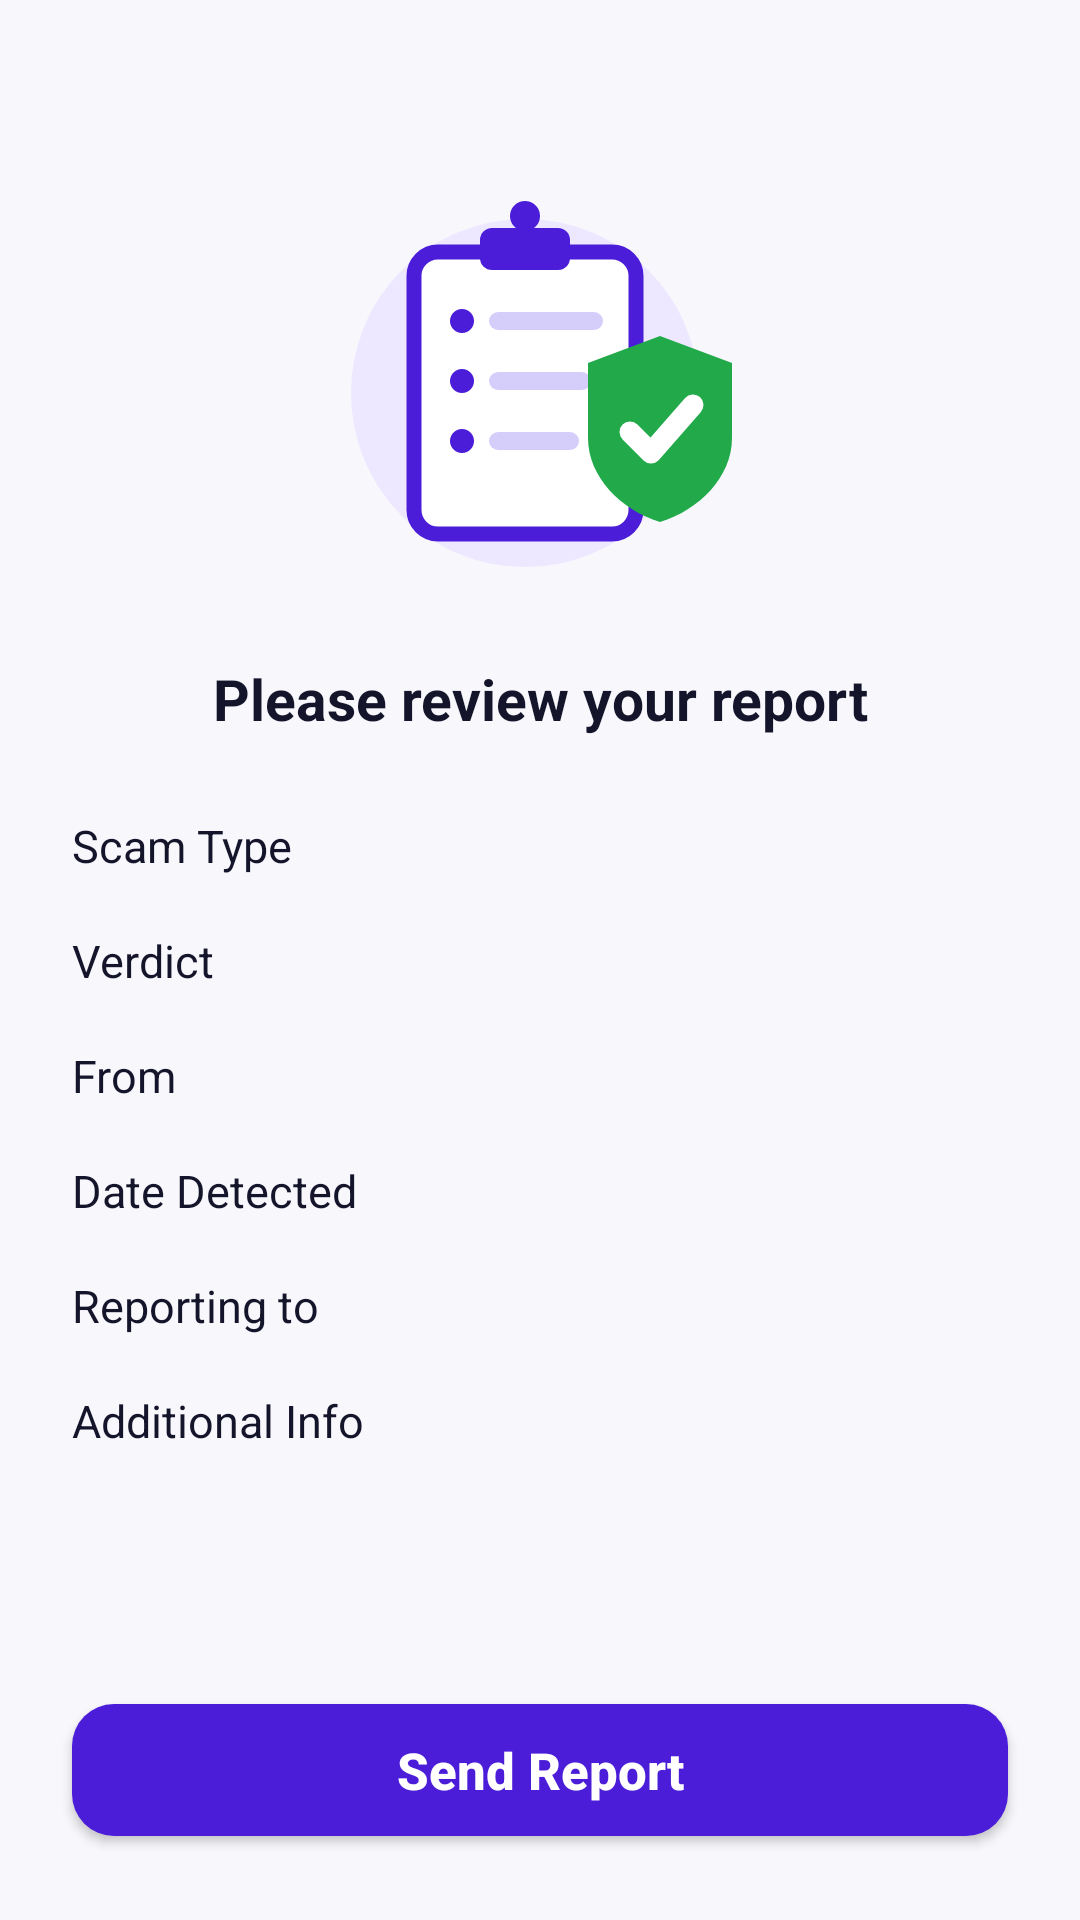

Icons on this 1080w x 1920h Android screen, each with the point to tap as (x=x, y=y):
il review report: (x=569, y=371)
